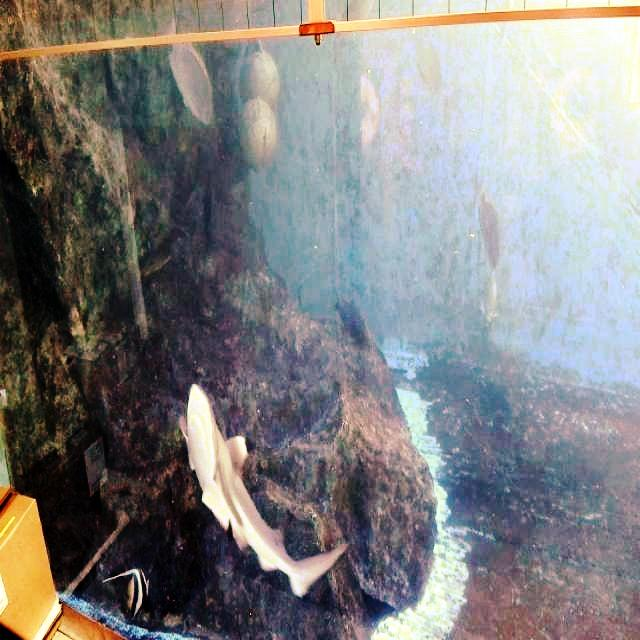angelfish: (100, 549, 164, 625)
gold snapper: (156, 11, 226, 142)
shark: (170, 362, 354, 610)
